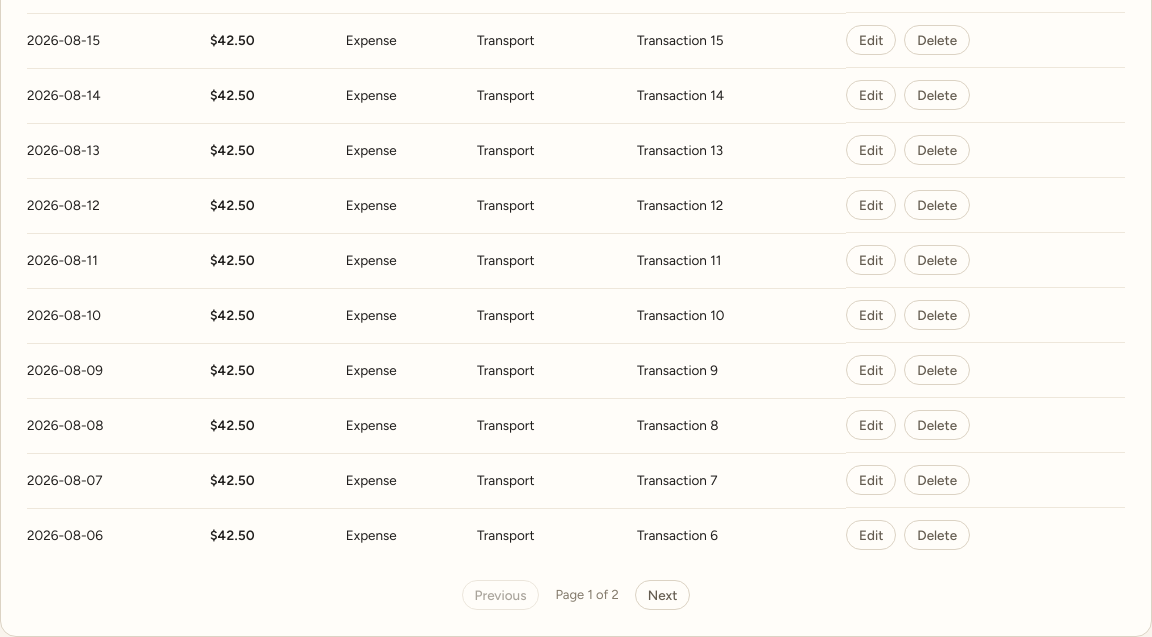
Test: Transactions › pagination › moves to the next and previous page
(page scrolled)
Click the button "Next" at (663, 595), box left=635, top=580, right=690, bottom=610
(page scrolled)
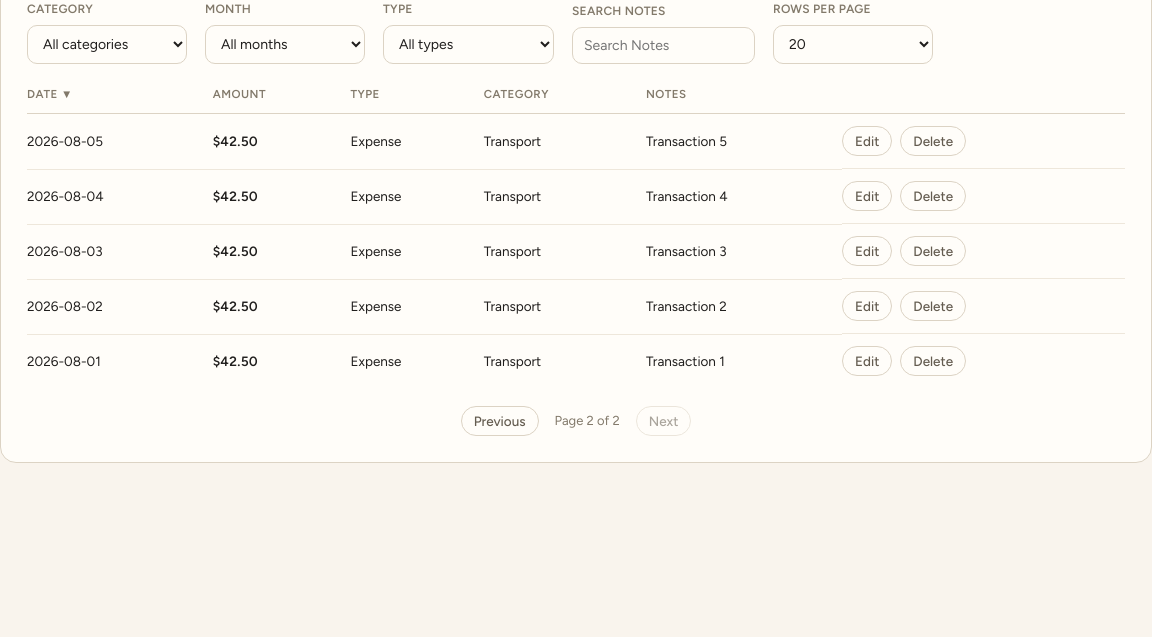
Expected: the text "Page 2 of 2" is shown, left=554, top=411, right=620, bottom=431
Expected: the button "Next" is disabled, left=636, top=406, right=691, bottom=436
Click the button "Previous" at (500, 421), box left=461, top=406, right=538, bottom=436
(page scrolled)
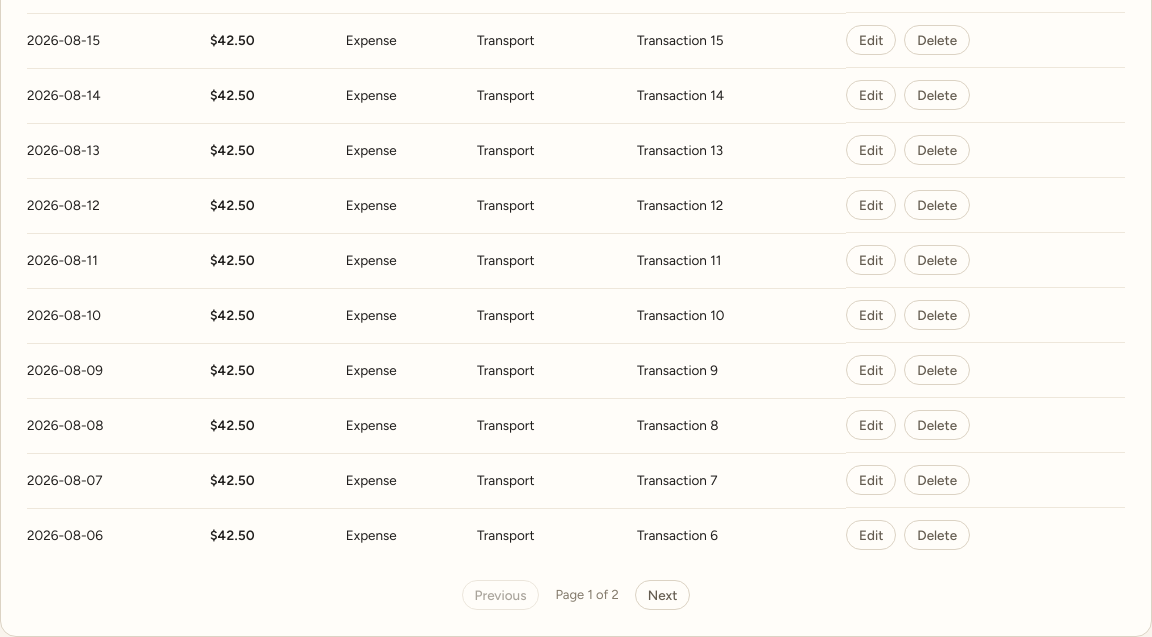
Expected: the text "Page 1 of 2" is shown, left=556, top=585, right=619, bottom=605
